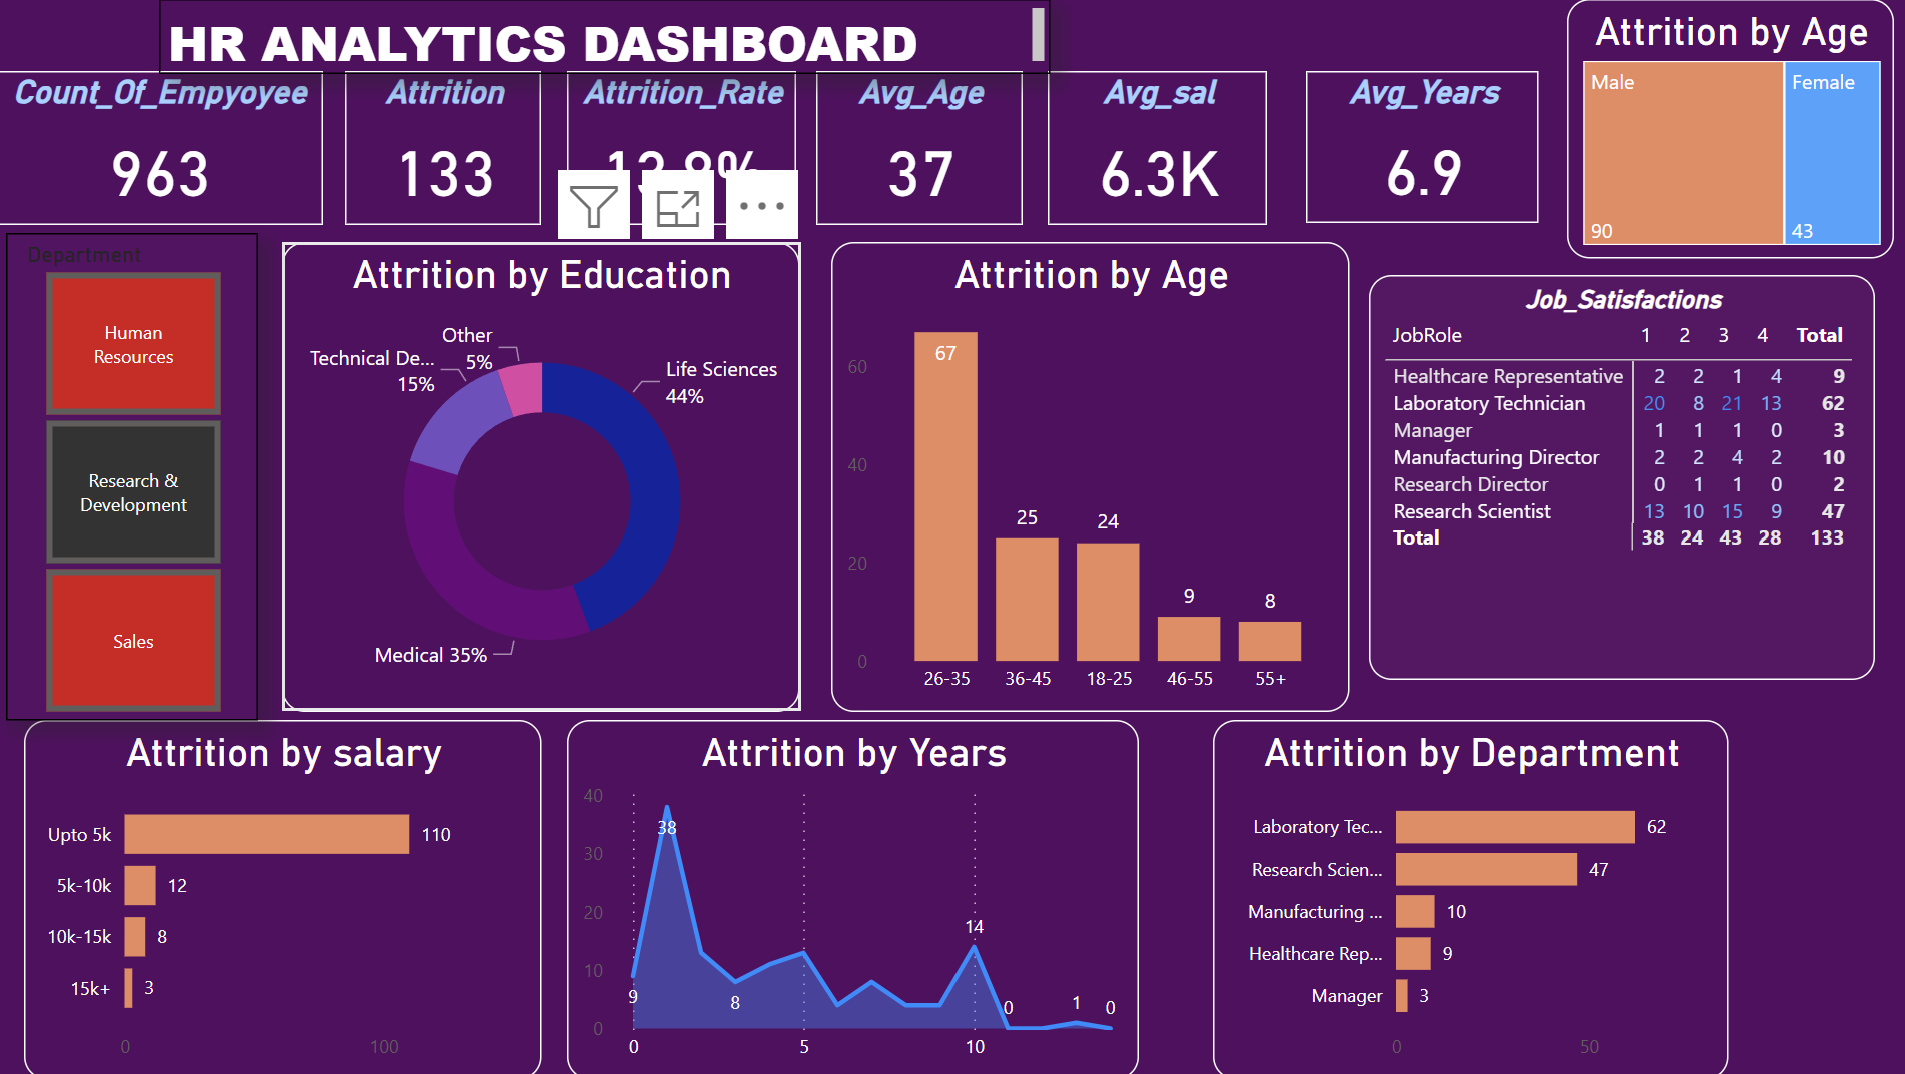

Layout of this report page (visuals, bound fields, positions):
{"tool":"powerbi","page":{"name":"Page 1","canvas":[1280,720],"ordinal":0},"visuals":[{"type":"card","title":"Count_Of_Empyoyee","fields":{"Values":["CountNonNull(HR_Analytics.EmpID)"]},"box":[0,47.4,219.2,102.6],"z":0},{"type":"card","title":"Attrition","fields":{"Values":["Sum(HR_Analytics.Attrition_Count)"]},"box":[234.6,47.4,130.8,102.6],"z":1},{"type":"card","title":"Attrition_Rate","fields":{"Values":["HR_Analytics.attritionRate"]},"box":[382.1,47.4,152.6,102.6],"z":2},{"type":"card","title":"Avg_Age","fields":{"Values":["Avg(HR_Analytics.Age)"]},"box":[547.4,47.4,137.2,102.6],"z":3},{"type":"card","title":"Avg_sal","fields":{"Values":["Avg(HR_Analytics.MonthlyIncome)"]},"box":[701.3,47.4,146.2,102.6],"z":4},{"type":"card","title":"Avg_Years","fields":{"Values":["Avg(HR_Analytics.YearsAtCompany)"]},"box":[874.4,48.7,155.1,101.3],"z":5},{"type":"donutChart","title":"Attrition by Education","fields":{"Category":["HR_Analytics.EducationField"],"Y":["Sum(HR_Analytics.Attrition_Count)"]},"box":[192.3,161.5,344.9,312.8],"z":6},{"type":"columnChart","title":"Attrition by Age","fields":{"Y":["Sum(HR_Analytics.Attrition_Count)"],"Category":["HR_Analytics.AgeGroup"]},"box":[559,161.5,344.9,312.8],"z":7},{"type":"pivotTable","title":"Job_Satisfactions ","fields":{"Rows":["HR_Analytics.JobRole"],"Values":["Sum(HR_Analytics.Attrition_Count)"],"Columns":["HR_Analytics.JobSatisfaction"]},"box":[916.7,183.3,337.2,269.2],"z":8},{"type":"barChart","title":"Attrition by salary","fields":{"Category":["HR_Analytics.SalarySlab"],"Y":["Sum(HR_Analytics.Attrition_Count)"]},"box":[19.2,480.8,344.9,239.7],"z":9},{"type":"barChart","title":"Attrition by Department","fields":{"Category":["HR_Analytics.JobRole"],"Y":["Sum(HR_Analytics.Attrition_Count)"]},"box":[812.8,480.8,343.6,239.7],"z":10},{"type":"areaChart","title":"Attrition by Years","fields":{"Category":["HR_Analytics.YearsAtCompany"],"Y":["Sum(HR_Analytics.Attrition_Count)"]},"box":[382.1,480.8,380.8,239.7],"z":11},{"type":"treemap","title":"Attrition by Age","fields":{"Group":["HR_Analytics.Gender"],"Values":["Sum(HR_Analytics.Attrition_Count)"]},"box":[1047.4,0,217.9,173.1],"z":13},{"type":"slicer","fields":{"Values":["HR_Analytics.Department"]},"box":[9,156.4,167.9,324.4],"z":14},{"type":"textbox","box":[110.3,0,593.6,50],"z":15}]}

Visuals, with their boxes in screenshot pixels (x1, y1, x2, y2), scaled from the page's 1280x720 canvas onto the 1905x1074 screenshot:
"Count_Of_Empyoyee" card: [0,71,326,224]
"Attrition" card: [349,71,544,224]
"Attrition_Rate" card: [569,71,796,224]
"Avg_Age" card: [815,71,1019,224]
"Avg_sal" card: [1044,71,1261,224]
"Avg_Years" card: [1301,73,1532,224]
"Attrition by Education" donutChart: [286,241,800,707]
"Attrition by Age" columnChart: [832,241,1345,707]
"Job_Satisfactions " pivotTable: [1364,273,1866,675]
"Attrition by salary" barChart: [29,717,542,1073]
"Attrition by Department" barChart: [1210,717,1721,1073]
"Attrition by Years" areaChart: [569,717,1135,1073]
"Attrition by Age" treemap: [1559,0,1883,258]
slicer - HR_Analytics.Department: [13,233,263,717]
textbox: [164,0,1048,75]
